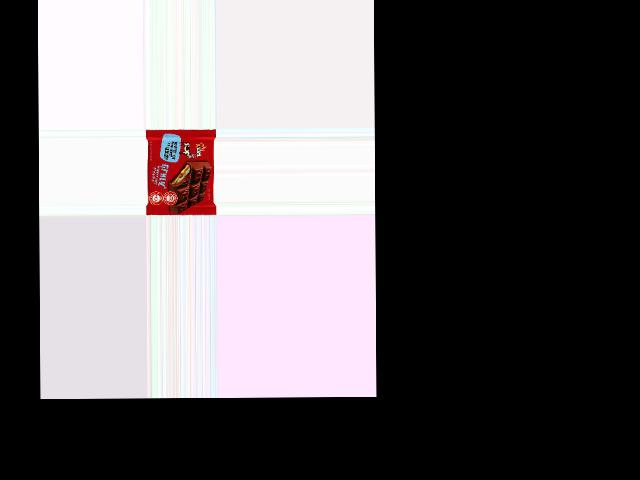chocolate: (145, 132, 215, 214)
